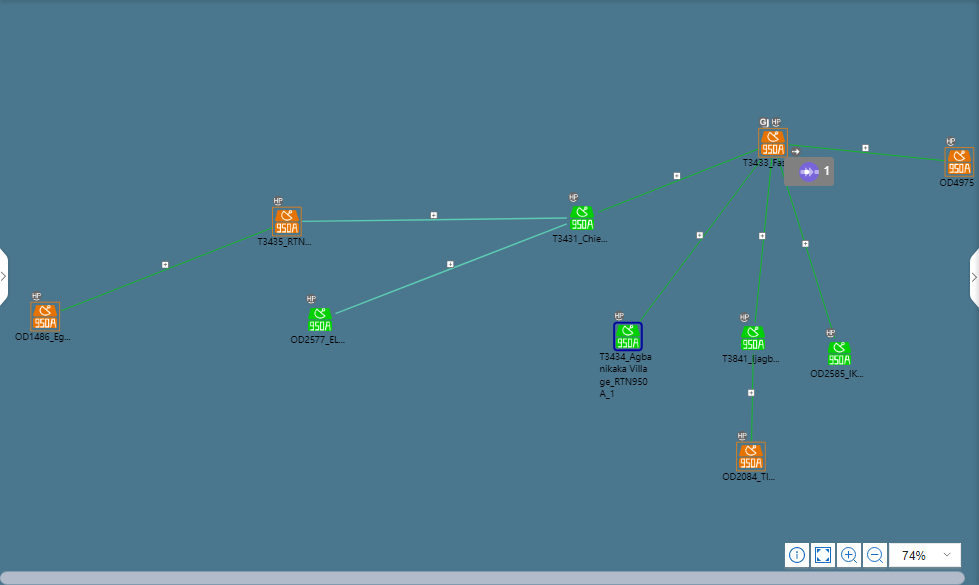Link_Blue: (333, 222, 563, 319)
Link_Green: (639, 161, 757, 315), (58, 228, 262, 312), (774, 161, 840, 343), (597, 149, 750, 211), (798, 143, 944, 166), (756, 155, 779, 285)
RTN_Green: (615, 326, 644, 355), (743, 326, 766, 355), (572, 204, 595, 233), (829, 345, 852, 367), (309, 308, 330, 331)
RTN_Orange: (945, 149, 974, 178), (762, 130, 791, 159), (737, 442, 766, 471), (272, 210, 300, 239), (34, 302, 63, 329)
